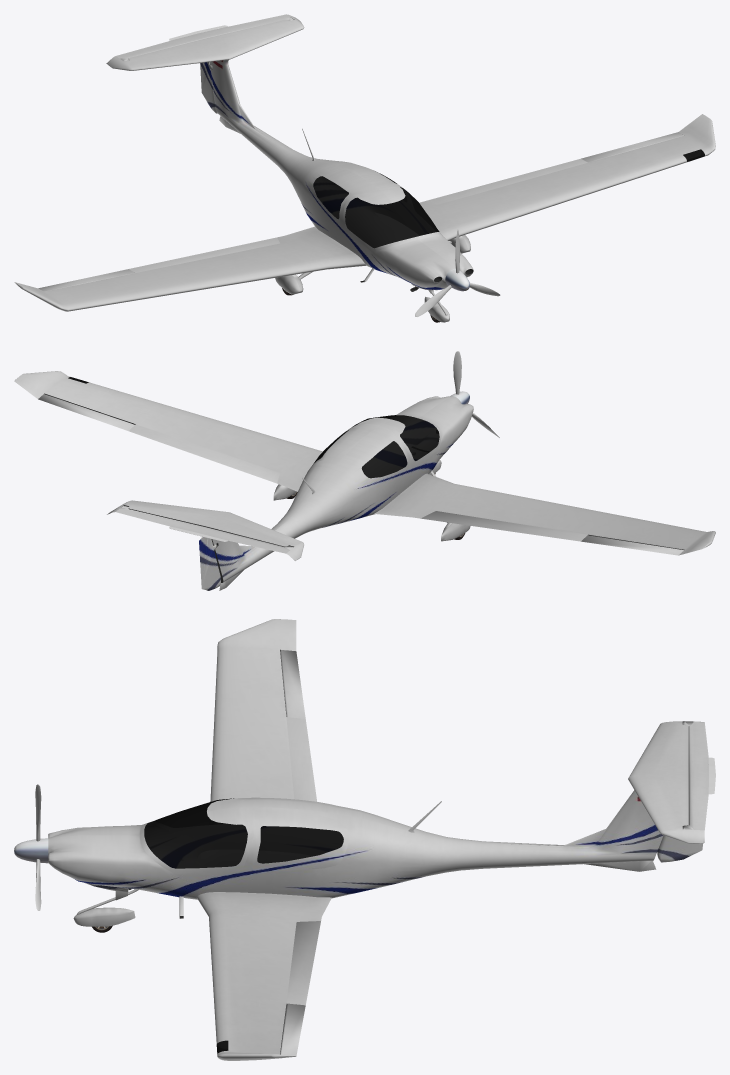
The picture shows the model from 3 angles, top to bottom: view 1: azimuth 30°, elevation 25°; view 2: azimuth 150°, elevation 25°; view 3: azimuth 270°, elevation 25°; orthographic projection. The views are drawn at different scales.
Parts seen in each view (by area): view 1: body, elevL1, flapL1, gear, flapR1, fanR1, ailL1, ailR1, rud1; view 2: body, flapL1, flapR1, elevL1, rud1, ailL1, gear, ailR1, fanR1; view 3: body, elevL1, flapL1, flapR1, gear, ailR1, ailL1, rud1.
Boxes of the visible parts, x1,y1,x2,y2 form: body: (14,14,715,311); elevL1: (116,14,293,61); flapL1: (421,158,587,205); gear: (275,235,470,322); flapR1: (129,237,279,272); fanR1: (415,229,500,316); ailL1: (581,132,683,162); ailR1: (38,269,134,291); rud1: (200,62,217,113); body: (14,371,715,590); flapL1: (128,424,279,483); flapR1: (420,511,587,541); elevL1: (116,506,293,553); rud1: (199,536,220,590); ailL1: (38,394,134,430); gear: (273,460,470,541); ailR1: (581,535,683,555); fanR1: (453,351,499,437); body: (14,619,715,1060); elevL1: (682,722,708,830); flapL1: (286,921,320,1005); flapR1: (286,717,316,801); gear: (73,889,138,932); ailR1: (280,650,305,718); ailL1: (280,1003,305,1055); rud1: (657,835,702,862).
Size of the model in its own units: 11.9 by 1.97 by 8.09.
Materials: 2 (1 with a texture image).
